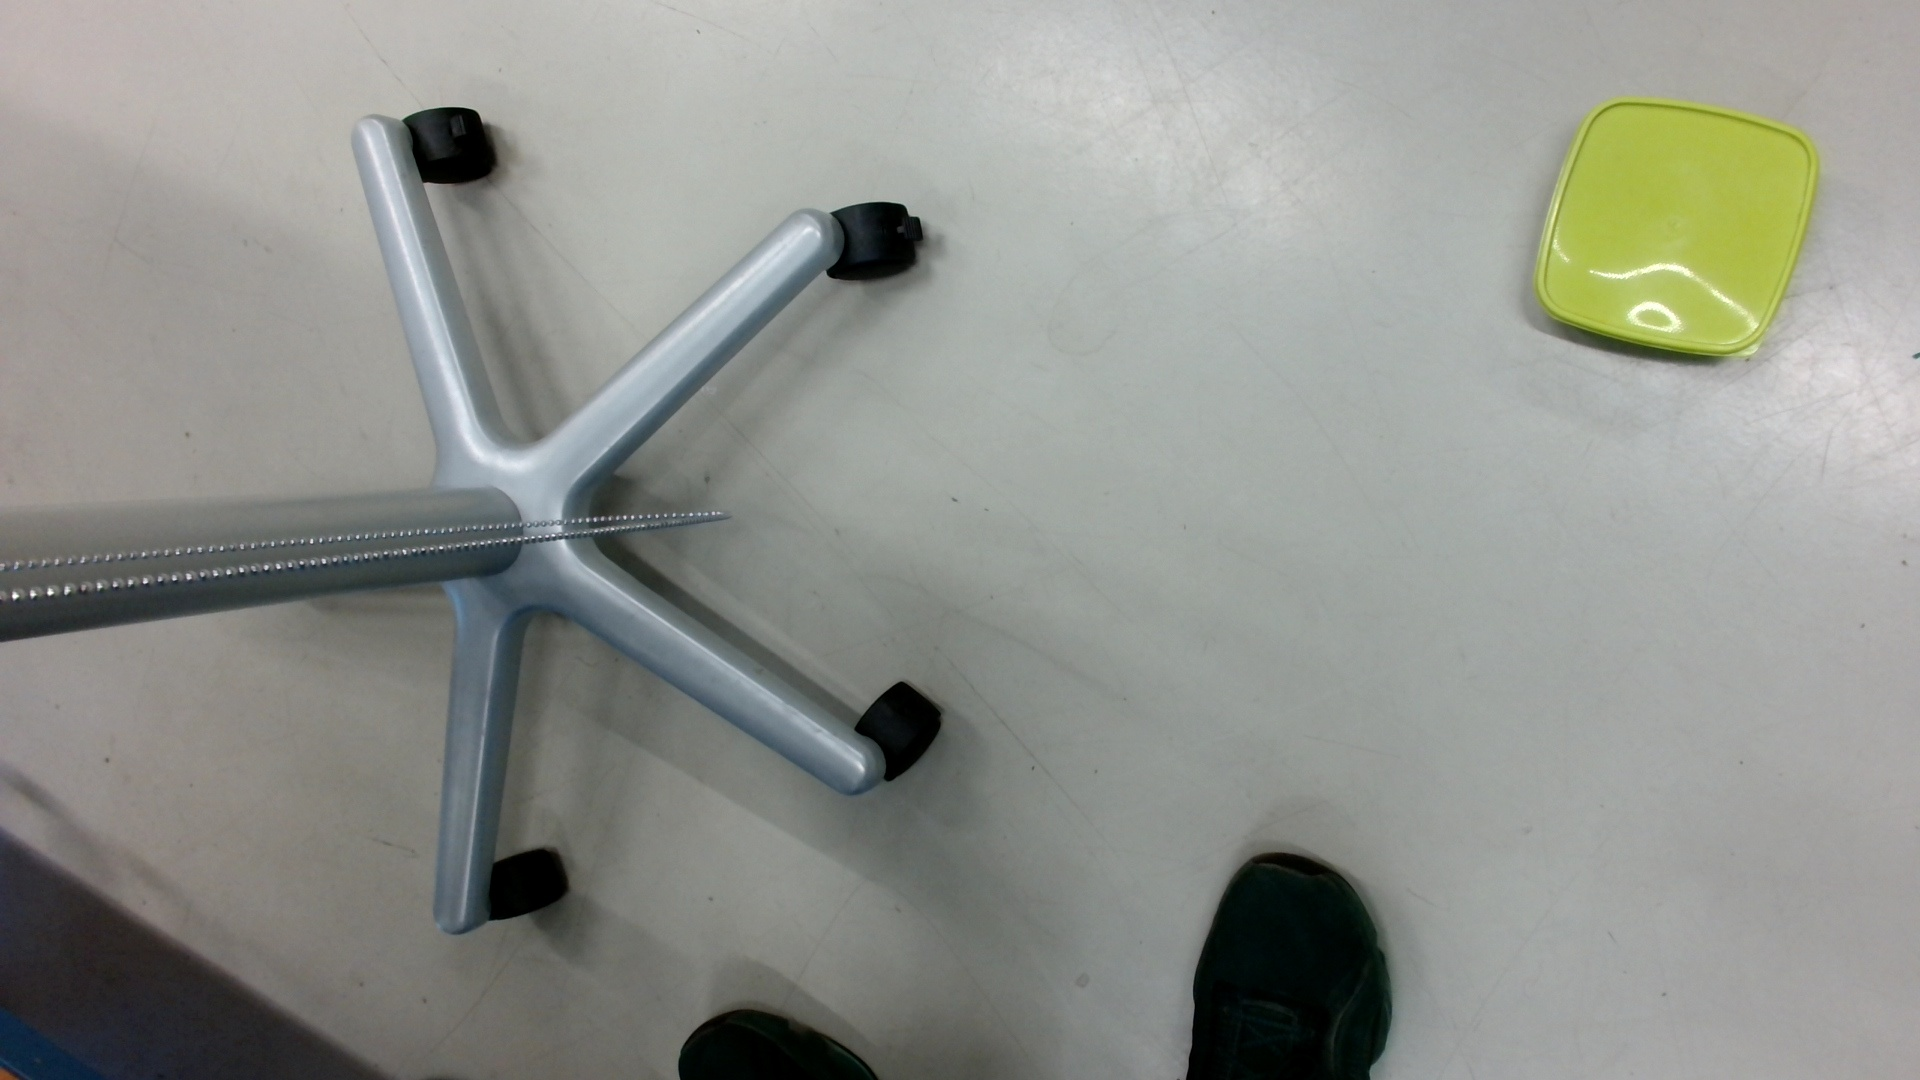Box: (1527, 93, 1825, 377)
